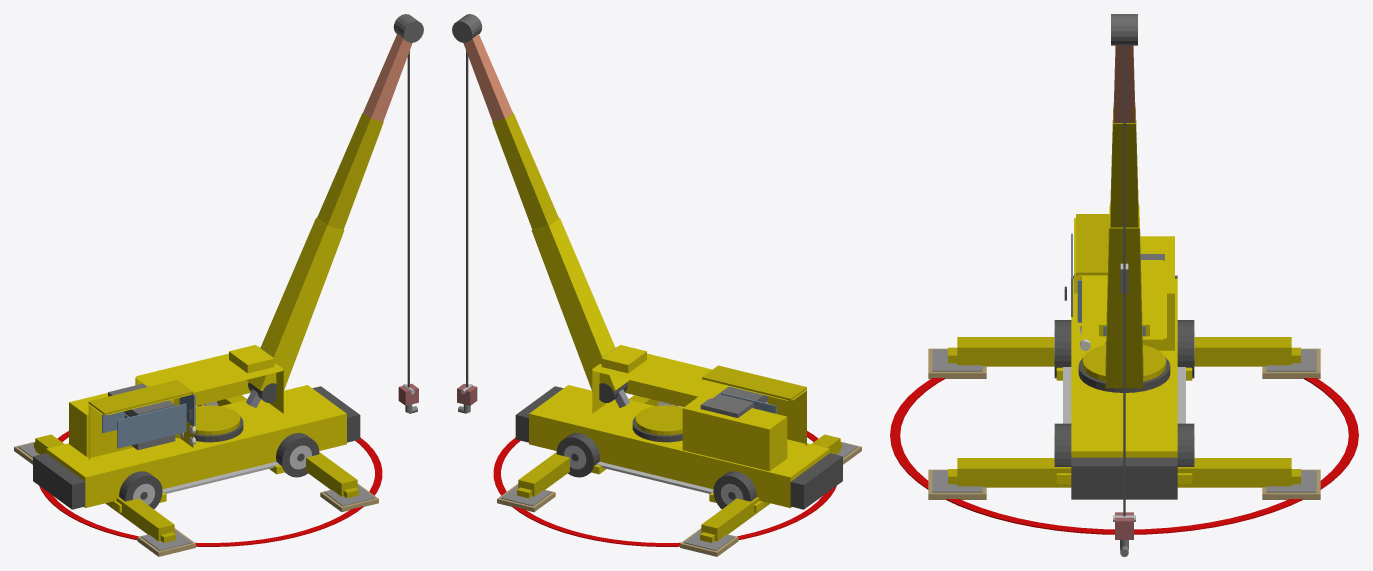
File: crane_KOBELCO_RK-250.glb
The picture shows the model from 3 angles, left to right: view 1: azimuth 30°, elevation 25°; view 2: azimuth 150°, elevation 25°; view 3: azimuth 270°, elevation 25°; orthographic projection. The views are drawn at different scales.
Parts seen in each view (by area): view 1: crane; view 2: crane; view 3: crane.
Part boxes in pixels (x1,y1,x2,y2): crane: (14,14,423,556); crane: (452,14,861,556); crane: (890,14,1358,556).
Bounding box in the file's own units: 13.74 × 14.59 × 11.23.
